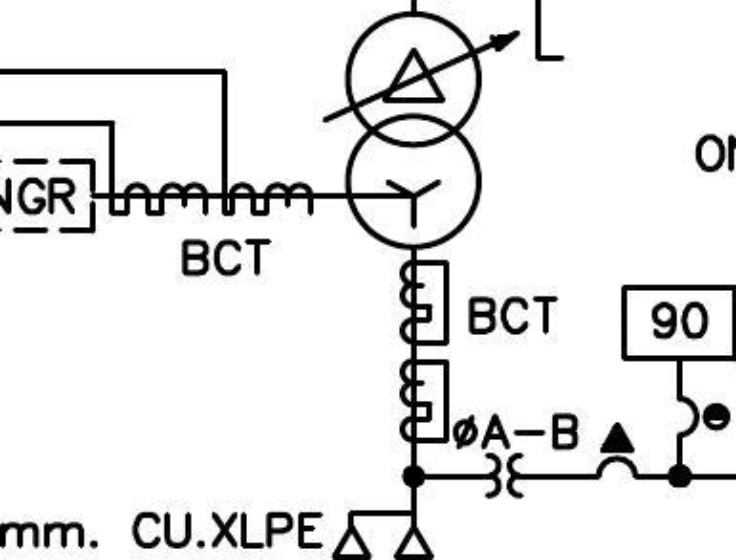11522_tx_dyn1: (344, 10, 484, 252)
